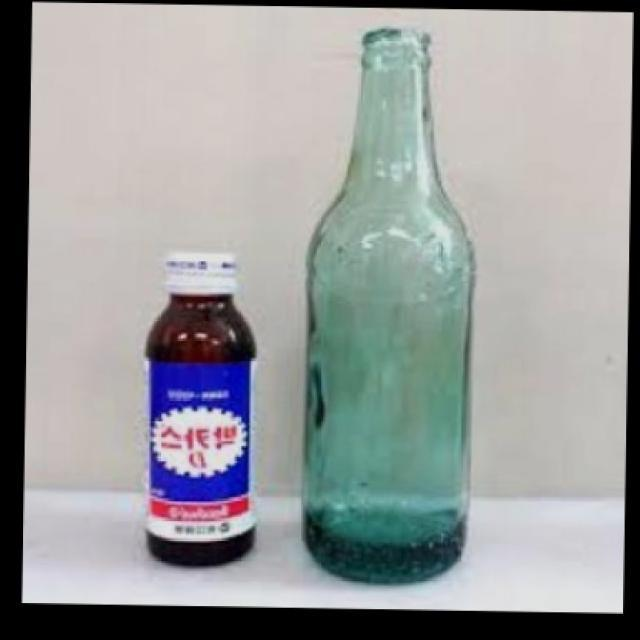Glass: (298, 26, 482, 597), (142, 252, 261, 569)
